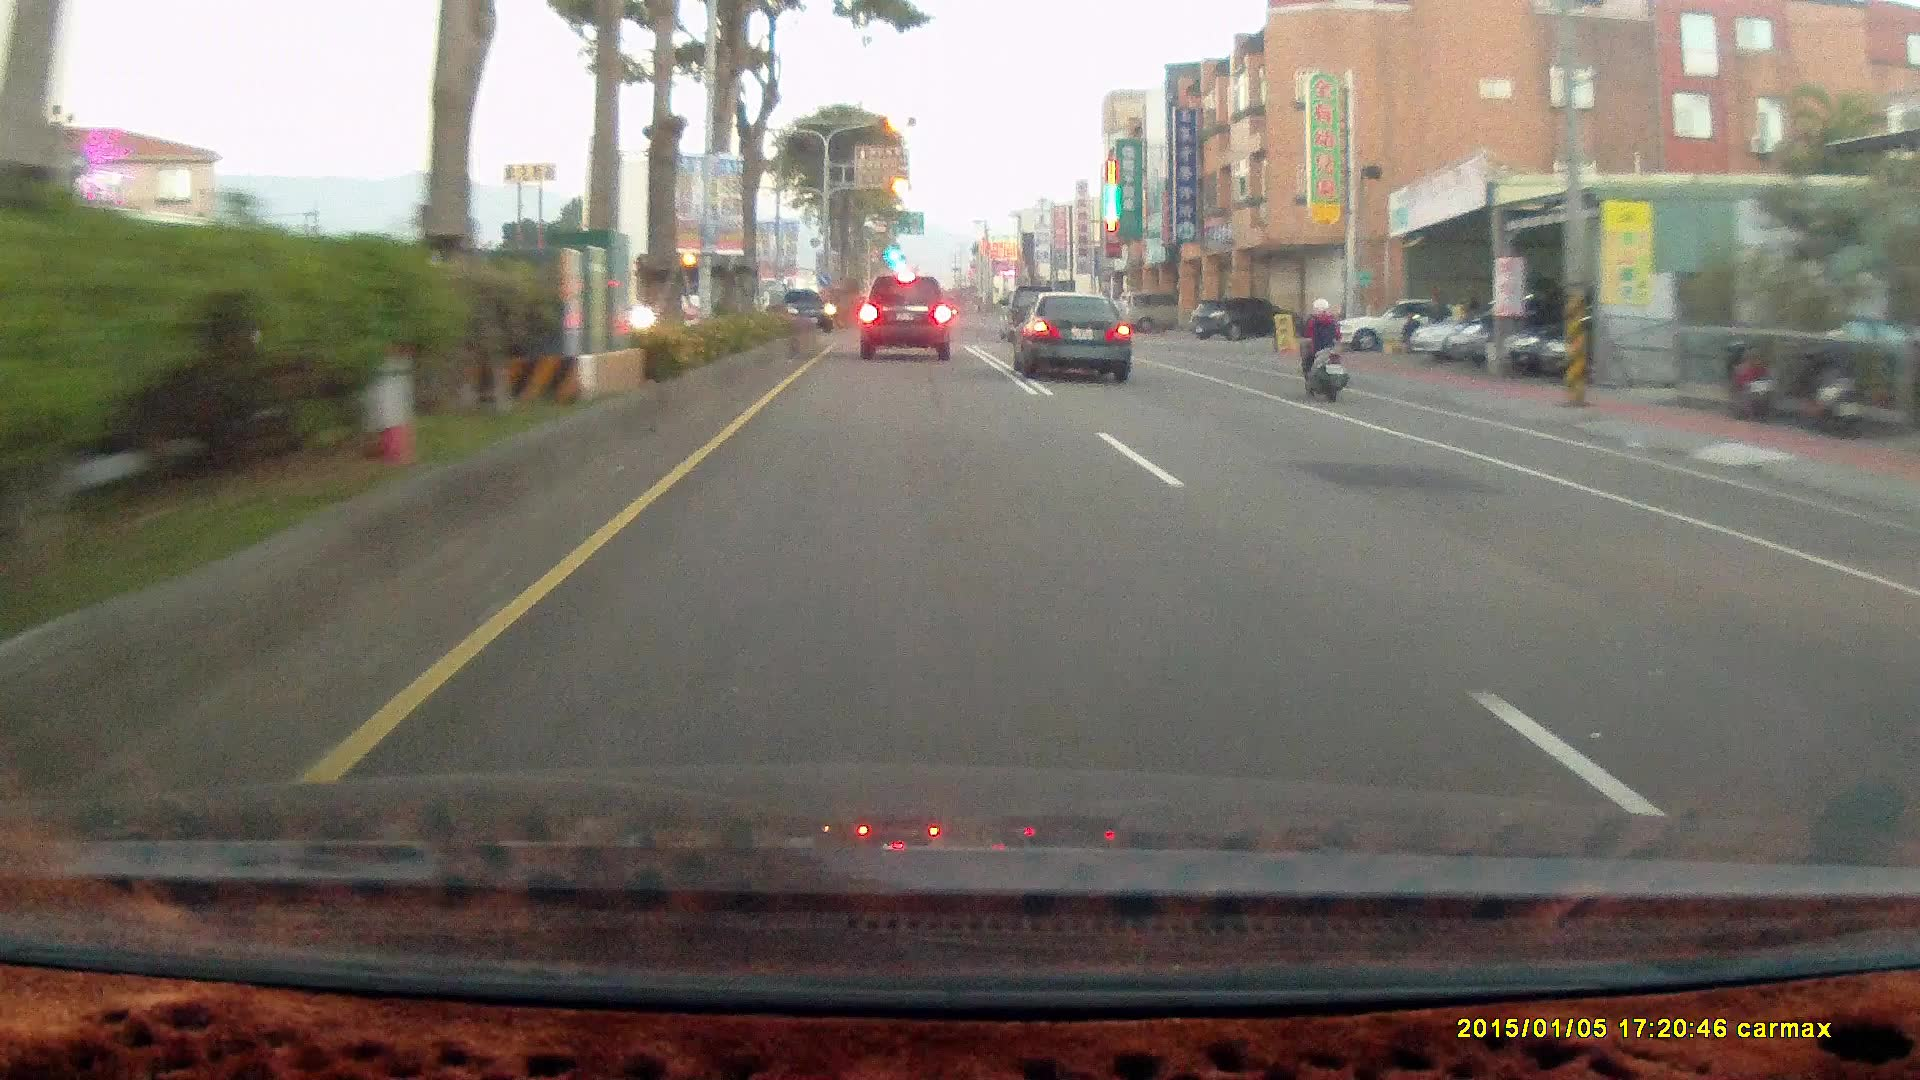pedestrian: (1430, 289, 1451, 346)
rider: (1284, 286, 1358, 412), (1291, 293, 1349, 401)
vehicle: (1537, 305, 1706, 384), (1498, 300, 1667, 376), (1447, 291, 1598, 366), (1008, 290, 1131, 381), (1021, 289, 1136, 385), (1320, 291, 1484, 356), (861, 269, 956, 358), (857, 274, 950, 360), (1324, 296, 1464, 351), (1410, 306, 1542, 364), (1186, 296, 1293, 342), (1193, 297, 1290, 345), (1117, 289, 1200, 331), (995, 283, 1060, 337), (770, 287, 835, 329)
